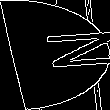N_W: (6, 32, 104, 78)
